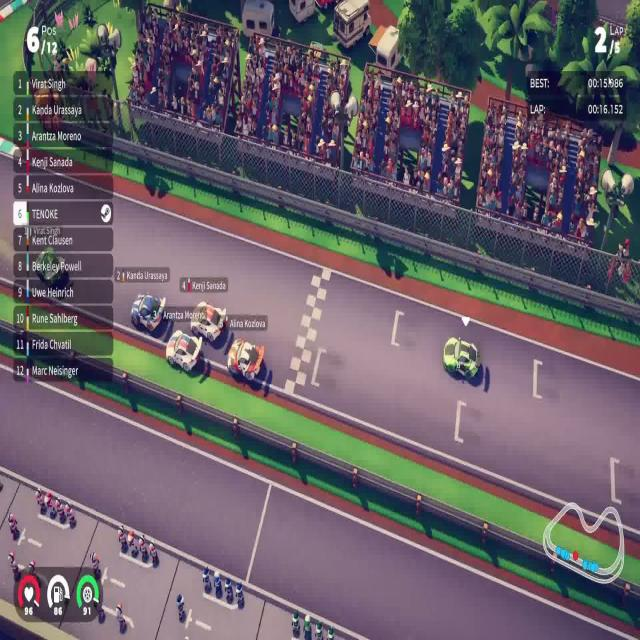car: (442, 334, 481, 382), (226, 337, 265, 382), (189, 299, 228, 343), (165, 328, 203, 372), (130, 291, 166, 333)
